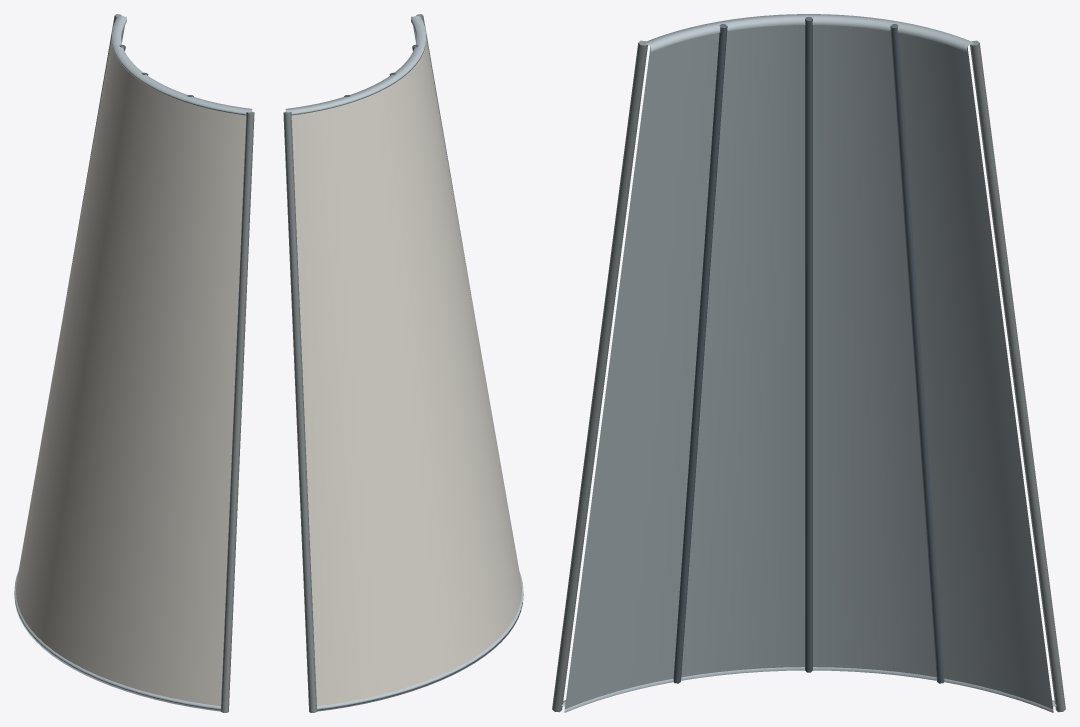
The model's file is sla.panel_04.glb.
The picture shows the model from 3 angles, left to right: view 1: azimuth 30°, elevation 25°; view 2: azimuth 150°, elevation 25°; view 3: azimuth 270°, elevation 25°; orthographic projection. The views are drawn at different scales.
Parts seen in each view (by area): view 1: sla.panel_04.mesh; view 2: sla.panel_04.mesh; view 3: sla.panel_04.mesh.
Part boxes in pixels (left/top/right/bottom): sla.panel_04.mesh: left=14, top=14, right=254, bottom=712; sla.panel_04.mesh: left=283, top=14, right=523, bottom=712; sla.panel_04.mesh: left=552, top=14, right=1065, bottom=712.
Bounding box in the file's own units: 1.65 × 6.46 × 4.27.
